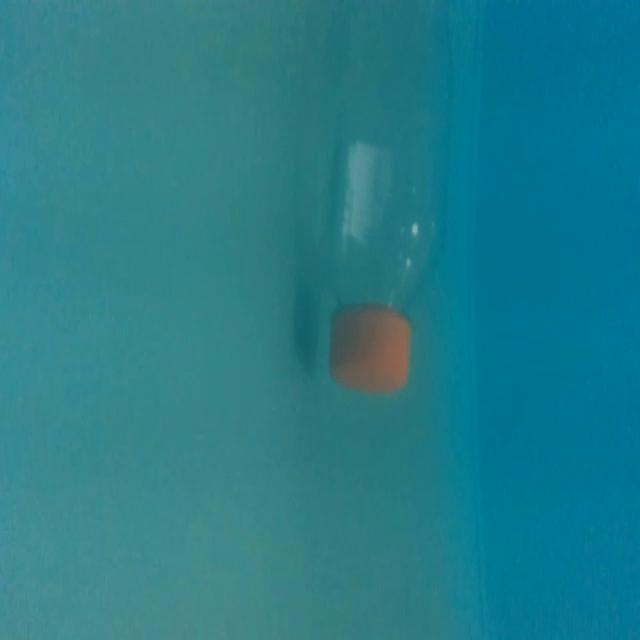plastic bottle: (304, 0, 475, 411)
